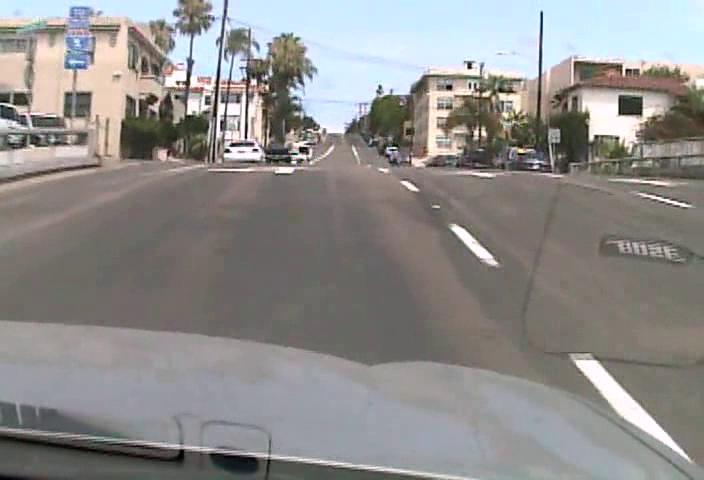speedLimitUrdbl: (547, 127, 561, 144)
